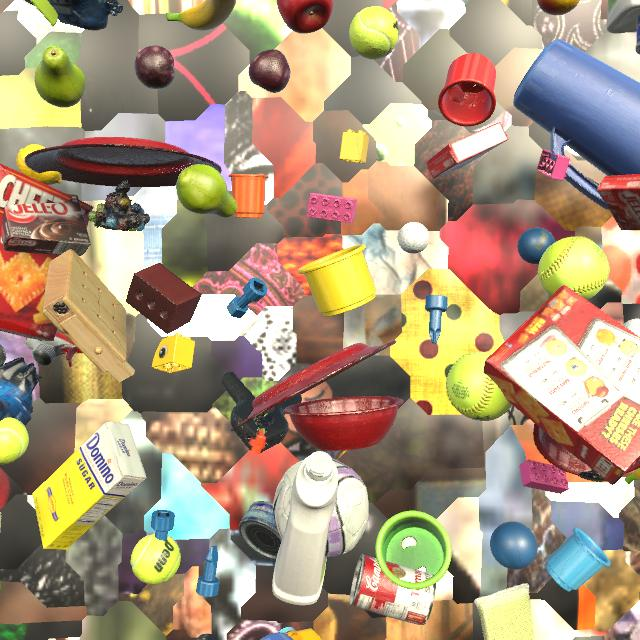ycb_002_master_chef_can: (635, 15, 640, 55)
ycb_003_cracker_box: (483, 284, 640, 485), (0, 164, 94, 341)
ycb_004_sugar_box: (32, 421, 146, 550)
ycb_005_tomato_soup_can: (350, 554, 436, 625)
ycb_007_tuna_fish_can: (239, 501, 282, 561)
ycb_008_pudding_box: (1, 194, 91, 256)
ycb_009_gelatin_box: (426, 122, 509, 179), (597, 174, 640, 230)
ycb_011_banana: (166, 0, 236, 30), (625, 468, 640, 484)
ycb_013_apple: (277, 0, 333, 34)
ycb_014_lemon: (16, 144, 62, 185)
ycb_015_peach: (537, 0, 580, 15)
ycb_016_pear: (176, 164, 237, 218), (35, 46, 86, 108)
ycb_018_plum: (249, 49, 290, 93), (135, 46, 175, 89)
